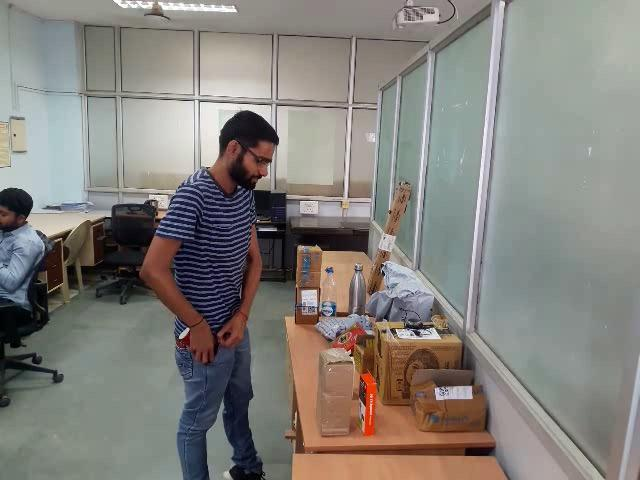Shoplifting: (131, 100, 307, 480)
